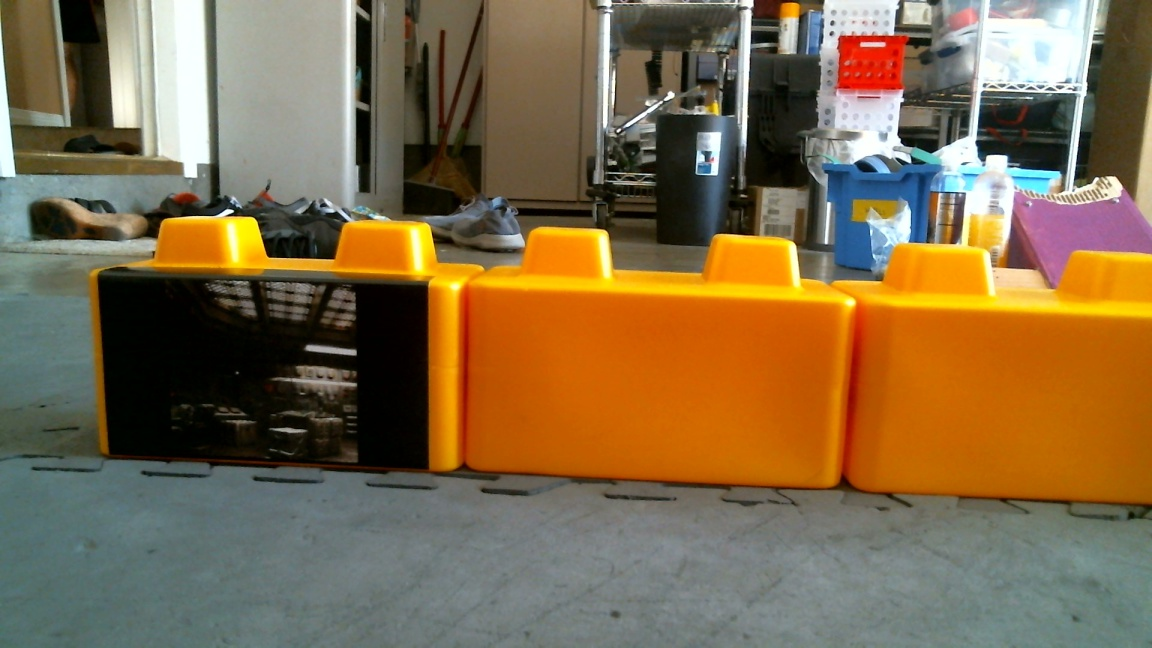left: (94, 244, 1152, 469)
